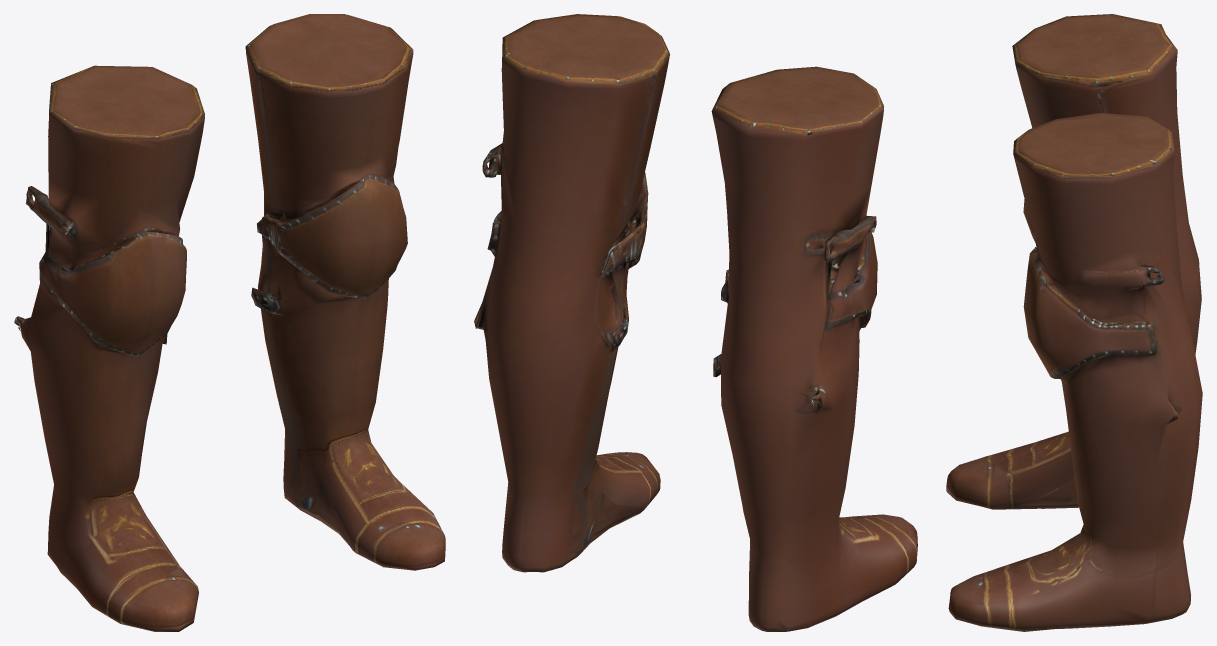
File: legs-leather-studded-leather_backup.glb
3 renders of one model, left to right at view 1: azimuth 30°, elevation 25°; view 2: azimuth 150°, elevation 25°; view 3: azimuth 270°, elevation 25°, orthographic. The views are drawn at different scales.
Size of the model in its own units: 1.5 by 2 by 1.
1 material, 1 textured.
